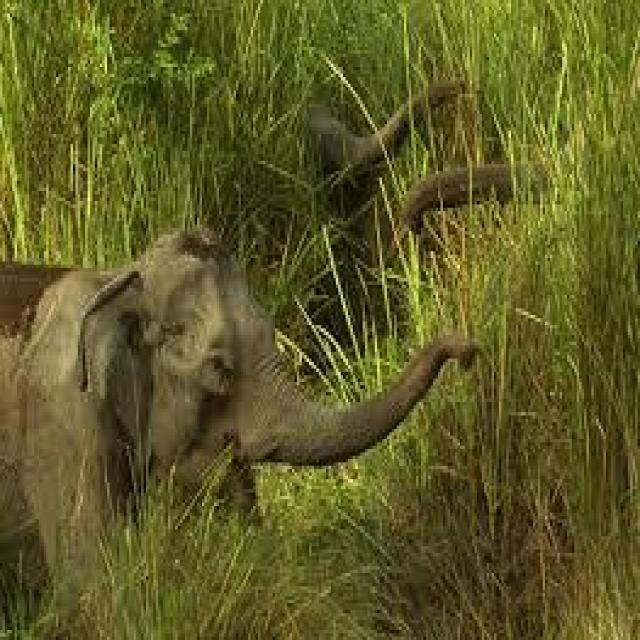Elephant: (0, 228, 475, 536)
